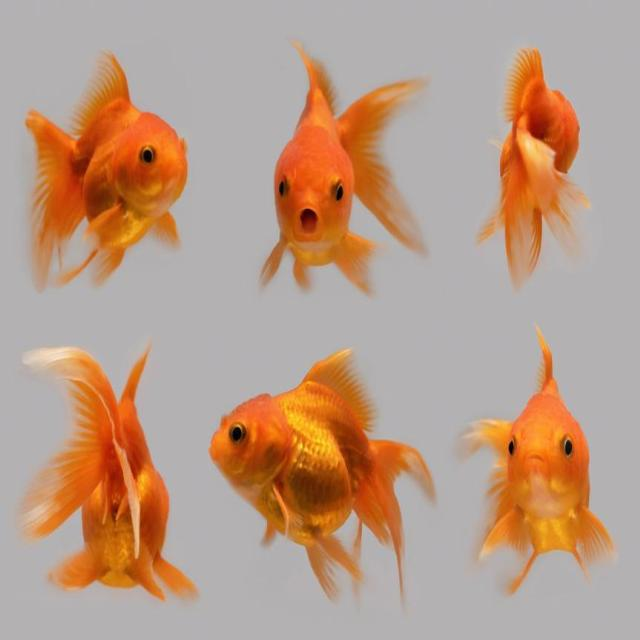GoldFish: (210, 348, 439, 608), (17, 343, 200, 623), (457, 320, 619, 610), (254, 36, 434, 294), (15, 50, 190, 289), (479, 38, 592, 292)
